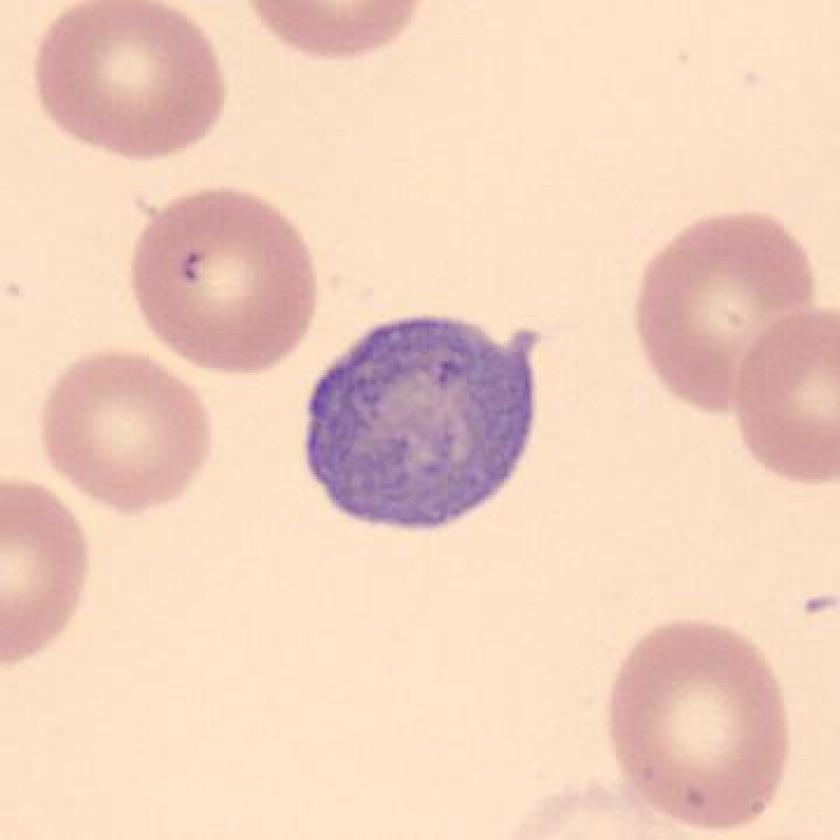platelets: (288, 299, 559, 545)
